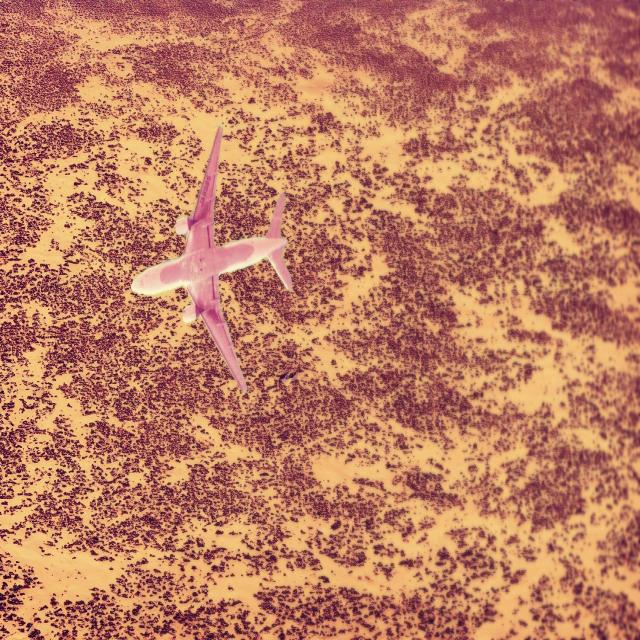airplane: (130, 124, 292, 396)
